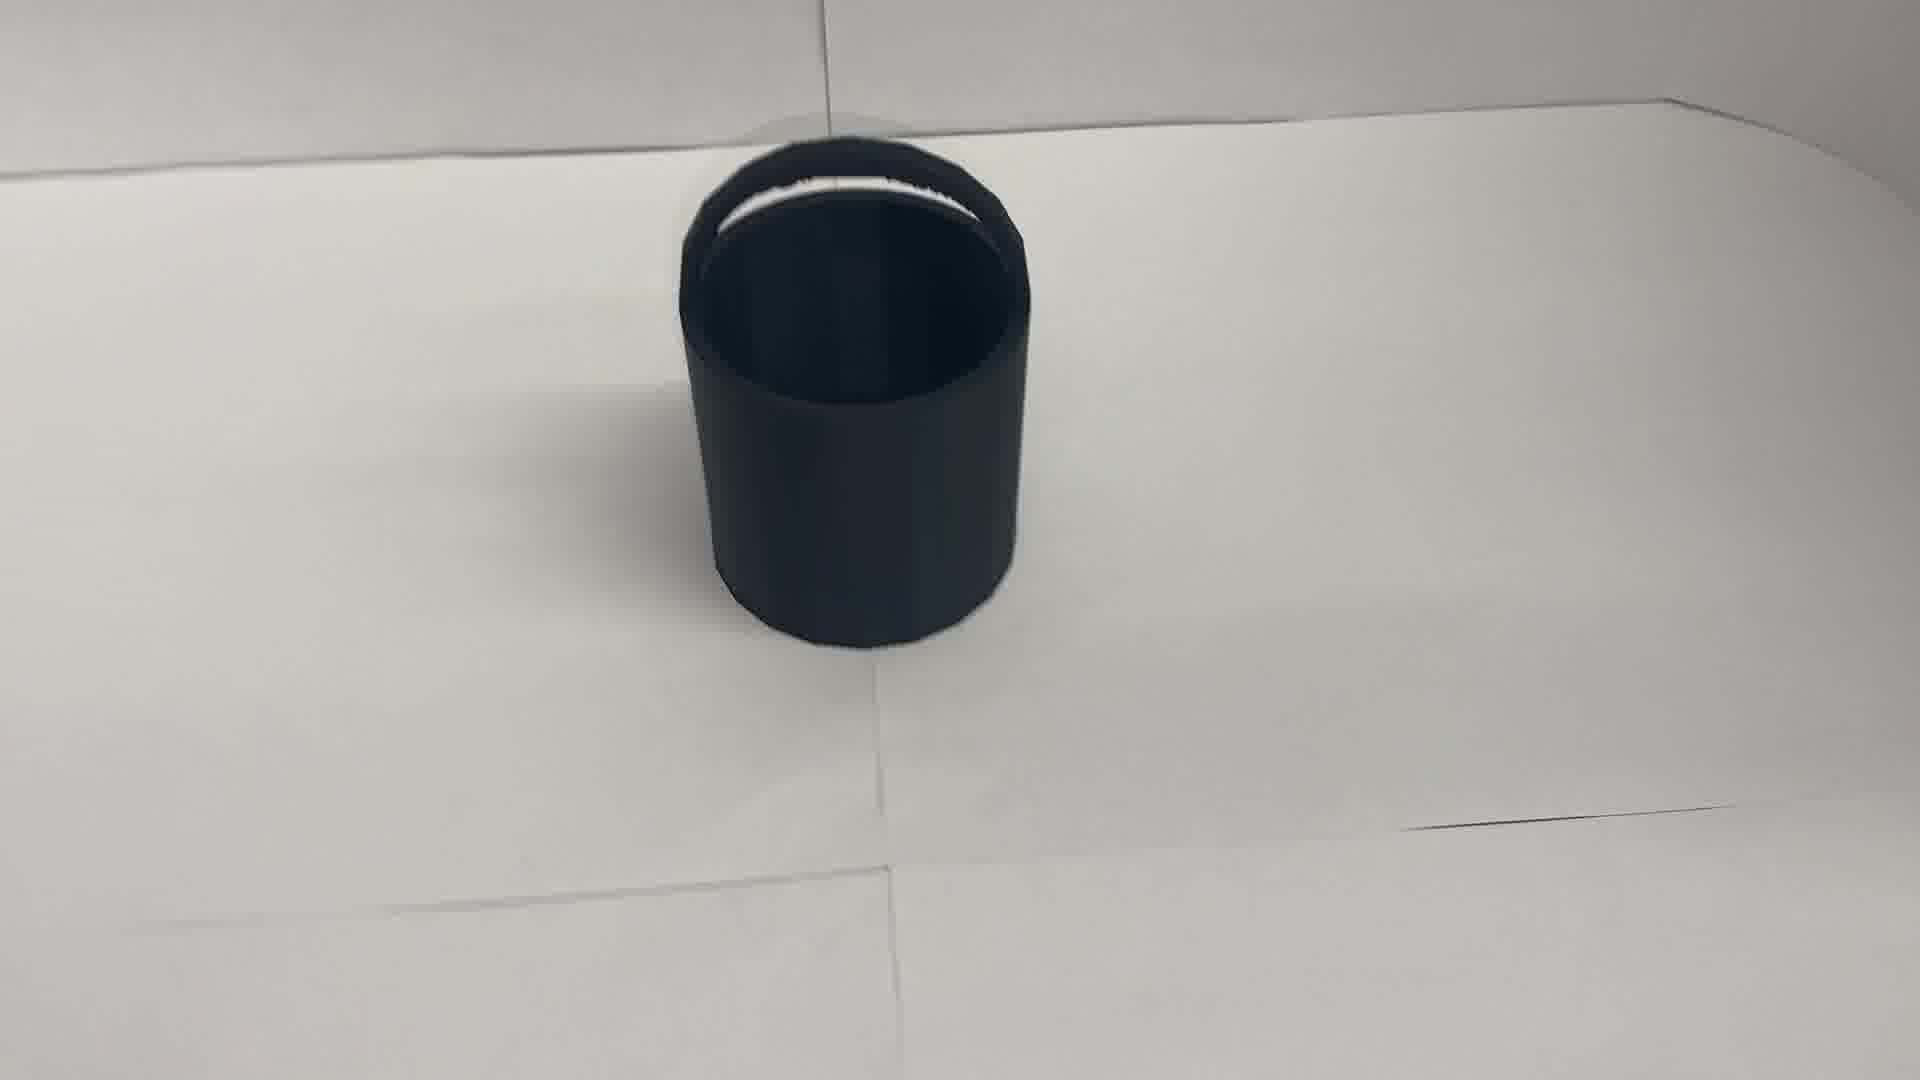bag: (665, 128, 1044, 663)
